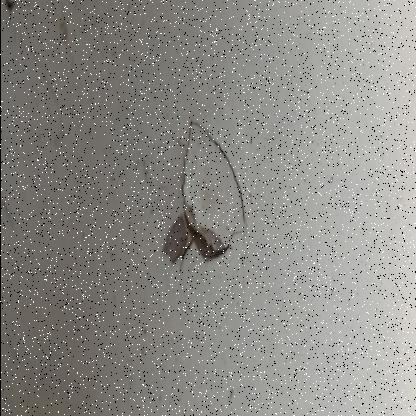Crack: (132, 101, 260, 323), (1, 0, 59, 268)
